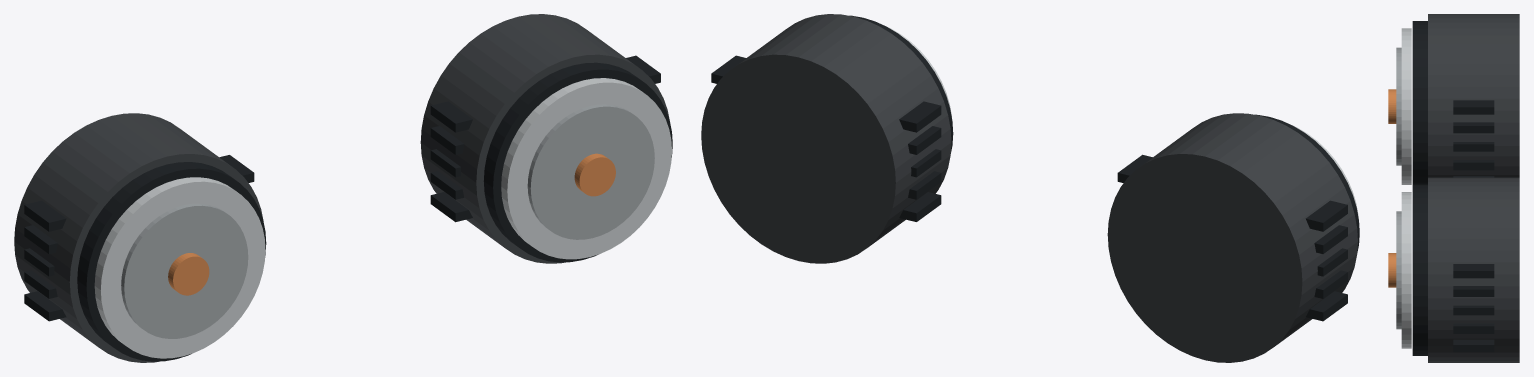
File: butt-kicker-7-pair-v1.glb
The picture shows the model from 3 angles, left to right: view 1: azimuth 30°, elevation 25°; view 2: azimuth 150°, elevation 25°; view 3: azimuth 270°, elevation 25°; orthographic projection. The views are drawn at different scales.
Visible parts, largest first — view 1: housing_-0.19, housing_0.19, reflector_0.19, reflector_-0.19, lens_0.19, lens_-0.19, bezel_0.19, bezel_-0.19, badge_-0.19, badge_0.19, fin_0.19_4, fin_-0.19_4 (+4 smaller); view 2: housing_0.19, housing_-0.19, fin_0.19_4, fin_-0.19_4, bezel_-0.19, bezel_0.19, fin_0.19_0, fin_-0.19_0, fin_0.19_3, fin_-0.19_3; view 3: housing_0.19, housing_-0.19, bezel_0.19, bezel_-0.19, lens_-0.19, lens_0.19, reflector_-0.19, reflector_0.19, fin_-0.19_4, fin_0.19_4, fin_0.19_0, fin_-0.19_3 (+7 smaller).
Part boxes in pixels (left/top/right/bottom): housing_-0.19: left=14, top=113, right=263, bottom=362; housing_0.19: left=420, top=14, right=669, bottom=263; reflector_0.19: left=527, top=104, right=654, bottom=239; reflector_-0.19: left=121, top=203, right=248, bottom=338; lens_0.19: left=501, top=78, right=671, bottom=259; lens_-0.19: left=94, top=177, right=265, bottom=358; bezel_0.19: left=483, top=62, right=672, bottom=262; bezel_-0.19: left=77, top=162, right=266, bottom=361; badge_-0.19: left=168, top=253, right=209, bottom=295; badge_0.19: left=574, top=153, right=615, bottom=196; fin_0.19_4: left=430, top=55, right=660, bottom=132; fin_-0.19_4: left=24, top=155, right=254, bottom=231; housing_0.19: left=701, top=14, right=951, bottom=263; housing_-0.19: left=1107, top=113, right=1357, bottom=362; fin_0.19_4: left=711, top=55, right=941, bottom=132; fin_-0.19_4: left=1117, top=154, right=1347, bottom=231; bezel_-0.19: left=1255, top=114, right=1359, bottom=252; bezel_0.19: left=849, top=15, right=953, bottom=153; fin_0.19_0: left=899, top=192, right=941, bottom=221; fin_-0.19_0: left=1306, top=291, right=1347, bottom=321; fin_0.19_3: left=908, top=126, right=941, bottom=154; fin_-0.19_3: left=1314, top=225, right=1347, bottom=253; housing_0.19: left=1428, top=177, right=1519, bottom=362; housing_-0.19: left=1428, top=14, right=1519, bottom=177; bezel_0.19: left=1412, top=184, right=1427, bottom=355; bezel_-0.19: left=1412, top=21, right=1427, bottom=184; lens_-0.19: left=1401, top=28, right=1411, bottom=184; lens_0.19: left=1401, top=192, right=1411, bottom=348; reflector_-0.19: left=1396, top=47, right=1401, bottom=165; reflector_0.19: left=1396, top=211, right=1401, bottom=329; fin_-0.19_4: left=1453, top=100, right=1494, bottom=114; fin_0.19_4: left=1453, top=264, right=1494, bottom=278; fin_0.19_0: left=1453, top=339, right=1494, bottom=352; fin_-0.19_3: left=1453, top=122, right=1494, bottom=133.
Bounding box in the file's own units: 0.572 × 0.182 × 0.129.
